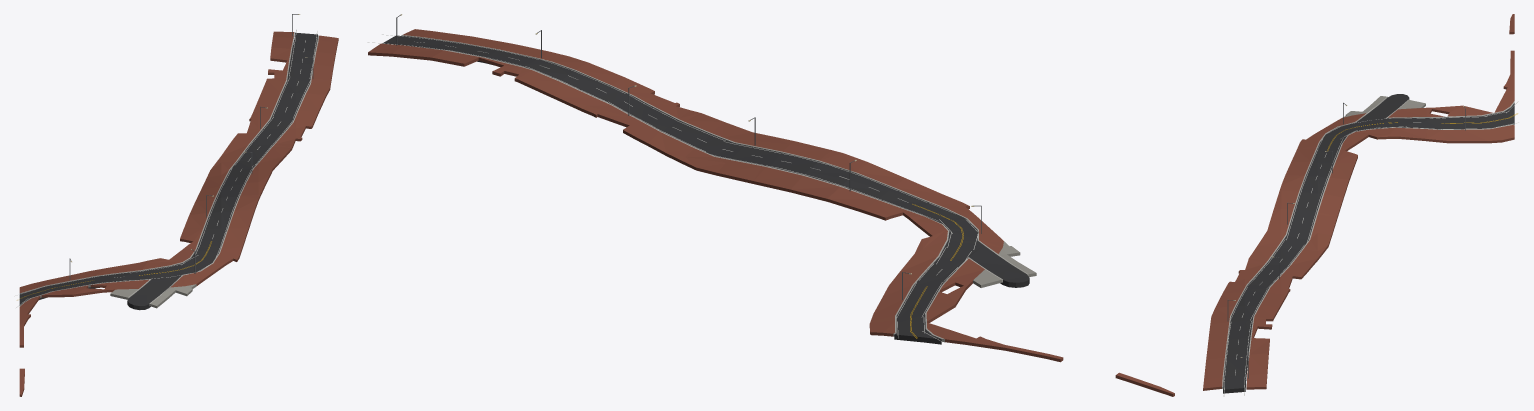
3 views of the same model, side by side, from view 1: azimuth 90°, elevation 25°; view 2: azimuth 150°, elevation 25°; view 3: azimuth 270°, elevation 25° (orthographic). The views are drawn at different scales.
Size of the model in its own units: 241 by 13.54 by 87.31.
